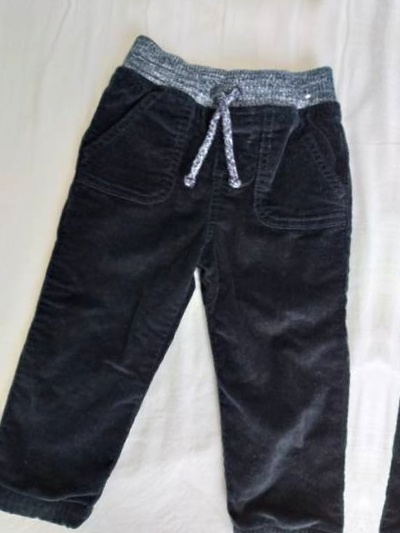Pants: (0, 12, 400, 533), (365, 50, 400, 533), (37, 0, 400, 27), (0, 0, 4, 516)
